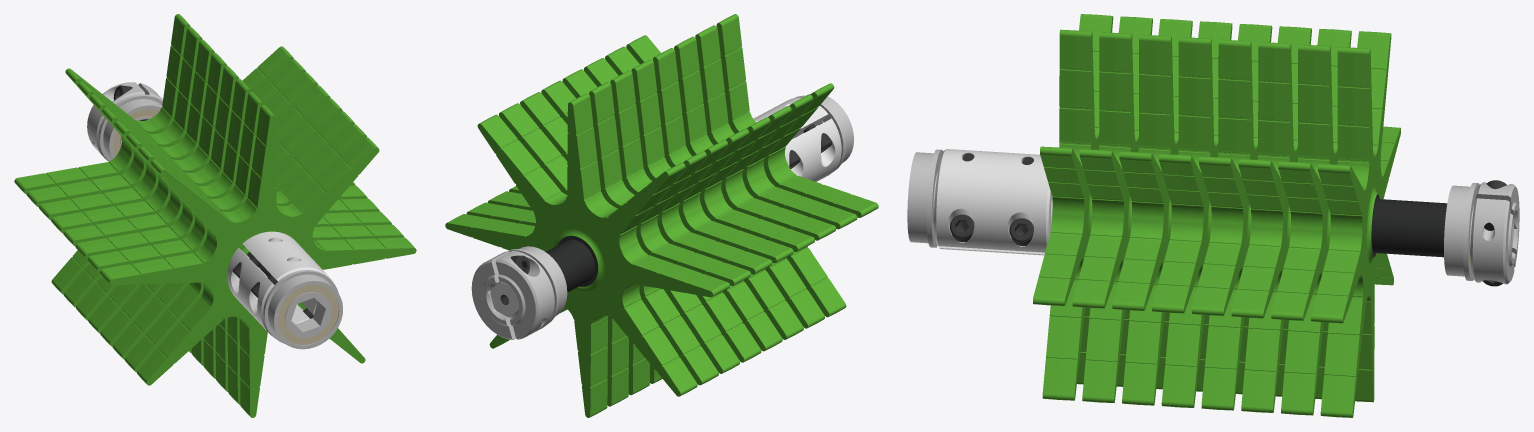
3 views of the same model, side by side, from view 1: azimuth 30°, elevation 25°; view 2: azimuth 150°, elevation 25°; view 3: azimuth 270°, elevation 25° (orthographic). The views are drawn at different scales.
Parts seen in each view (by area): view 1: 5" Compliant Star (35A, 1/2" Hex Bore) (×8), 1/2" Hex Bore Bearing (1.125" OD, 0.313" WD, Shielded, Flang (×2), 1/2" Hex Shaft Coupler (1.5" L), 1/2" Hex Clamping Shaft Collar (Heavy Duty, Split); view 2: 5" Compliant Star (35A, 1/2" Hex Bore) (×8), 1/2" Hex Clamping Shaft Collar (Heavy Duty, Split), 1/2" Hex Shaft Coupler (1.5" L), 1/2" Hex Bore Bearing (1.125" OD, 0.313" WD, Shielded, Flang (×2), Shaft Spacer, 1/2" Rounded Hex (6.5" L, 13.75mm OD); view 3: 5" Compliant Star (35A, 1/2" Hex Bore) (×8), 1/2" Hex Shaft Coupler (1.5" L), 1/2" Hex Bore Bearing (1.125" OD, 0.313" WD, Shielded, Flang (×2), 1/2" Hex Clamping Shaft Collar (Heavy Duty, Split), Shaft Spacer.
Boxes of the visible parts, x1,y1,x2,y2 form: 5" Compliant Star (35A, 1/2" Hex Bore) (×8): [14, 14, 416, 417]; 1/2" Hex Bore Bearing (1.125" OD, 0.313" WD, Shielded, Flang (×2): [98, 94, 342, 349]; 1/2" Hex Shaft Coupler (1.5" L): [227, 231, 332, 337]; 1/2" Hex Clamping Shaft Collar (Heavy Duty, Split): [87, 82, 162, 161]; 5" Compliant Star (35A, 1/2" Hex Bore) (×8): [445, 14, 878, 417]; 1/2" Hex Clamping Shaft Collar (Heavy Duty, Split): [471, 250, 554, 339]; 1/2" Hex Shaft Coupler (1.5" L): [753, 97, 841, 181]; 1/2" Hex Bore Bearing (1.125" OD, 0.313" WD, Shielded, Flang (×2): [507, 94, 853, 324]; Shaft Spacer: [546, 239, 594, 292]; 1/2" Rounded Hex (6.5" L, 13.75mm OD): [490, 282, 518, 317]; 5" Compliant Star (35A, 1/2" Hex Bore) (×8): [1033, 14, 1400, 417]; 1/2" Hex Shaft Coupler (1.5" L): [934, 149, 1052, 255]; 1/2" Hex Bore Bearing (1.125" OD, 0.313" WD, Shielded, Flang (×2): [907, 149, 1479, 280]; 1/2" Hex Clamping Shaft Collar (Heavy Duty, Split): [1470, 180, 1519, 286]; Shaft Spacer: [1372, 199, 1447, 257].
Bounding box in the file's own units: 0.1398 × 0.1269 × 0.1936.
